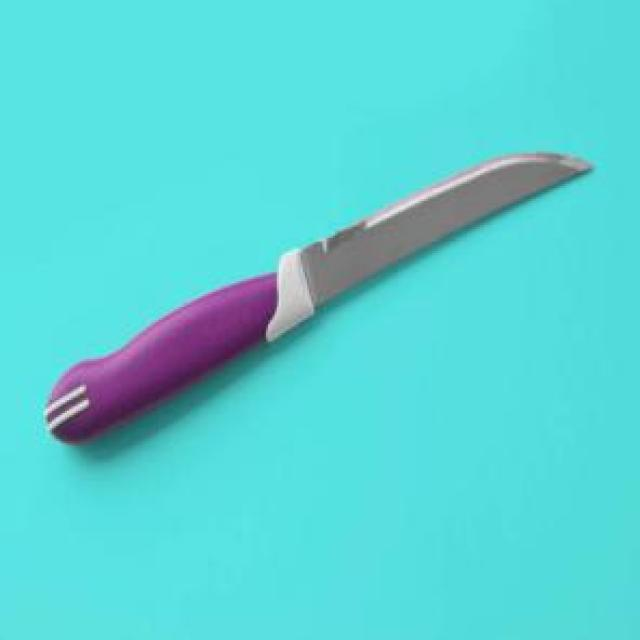knife: (43, 150, 595, 444)
